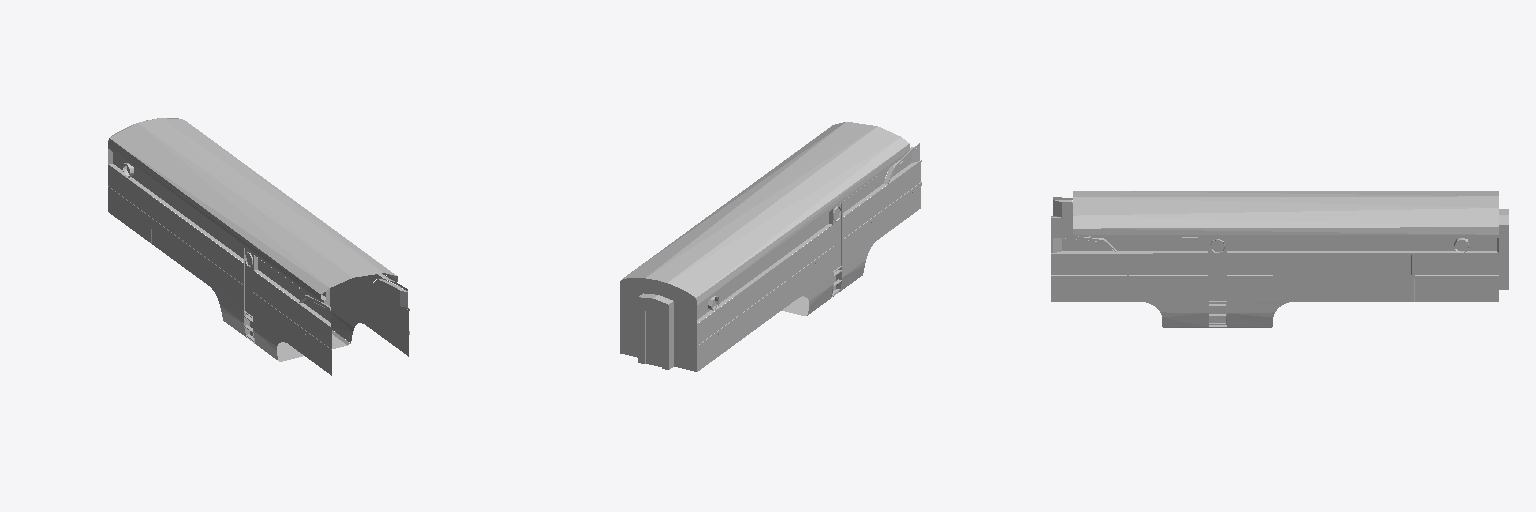
Rendered from body.obj.
The picture shows the model from 3 angles: view 1: azimuth 30°, elevation 25°; view 2: azimuth 150°, elevation 25°; view 3: azimuth 270°, elevation 25°; orthographic projection.
Visible parts, largest first — view 1: model.005_Plane.006_Plane.001; view 2: model.005_Plane.006_Plane.001; view 3: model.005_Plane.006_Plane.001.
Part boxes in pixels (bbox=[...]): model.005_Plane.006_Plane.001: bbox=[108, 118, 409, 375]; model.005_Plane.006_Plane.001: bbox=[620, 122, 921, 371]; model.005_Plane.006_Plane.001: bbox=[1051, 191, 1508, 327].
Size of the model in its own units: 12.74 by 17.35 by 64.96.